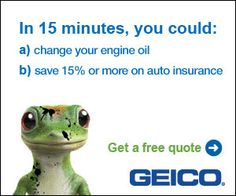Geico: (128, 165, 229, 188)
